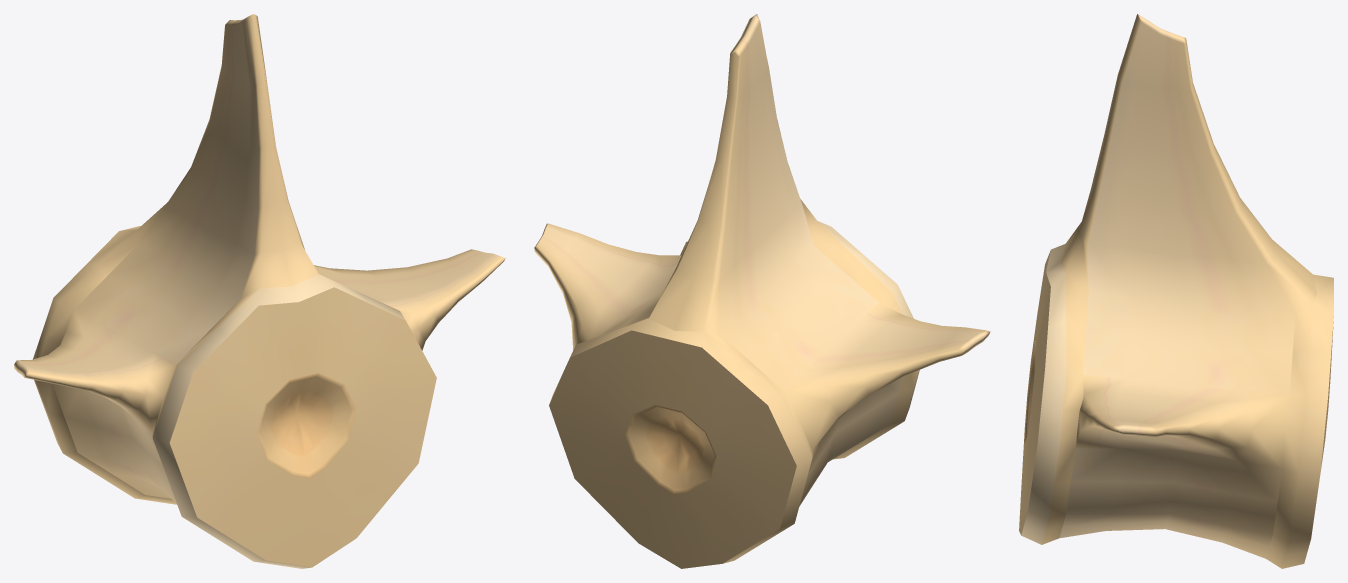
The model's file is Spine3.fbx.
The picture shows the model from 3 angles, left to right: view 1: azimuth 30°, elevation 25°; view 2: azimuth 150°, elevation 25°; view 3: azimuth 270°, elevation 25°; orthographic projection. The views are drawn at different scales.
Visible parts, largest first — view 1: polySurface14; view 2: polySurface14; view 3: polySurface14.
Boxes of the visible parts, x1,y1,x2,y2 form: polySurface14: (14, 14, 505, 568); polySurface14: (534, 14, 990, 568); polySurface14: (1019, 14, 1333, 568).
Size of the model in its own units: 3.19 by 3.46 by 1.8.
